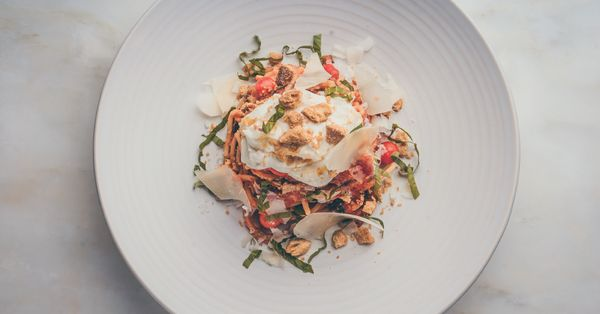soup: (191, 35, 421, 273)
